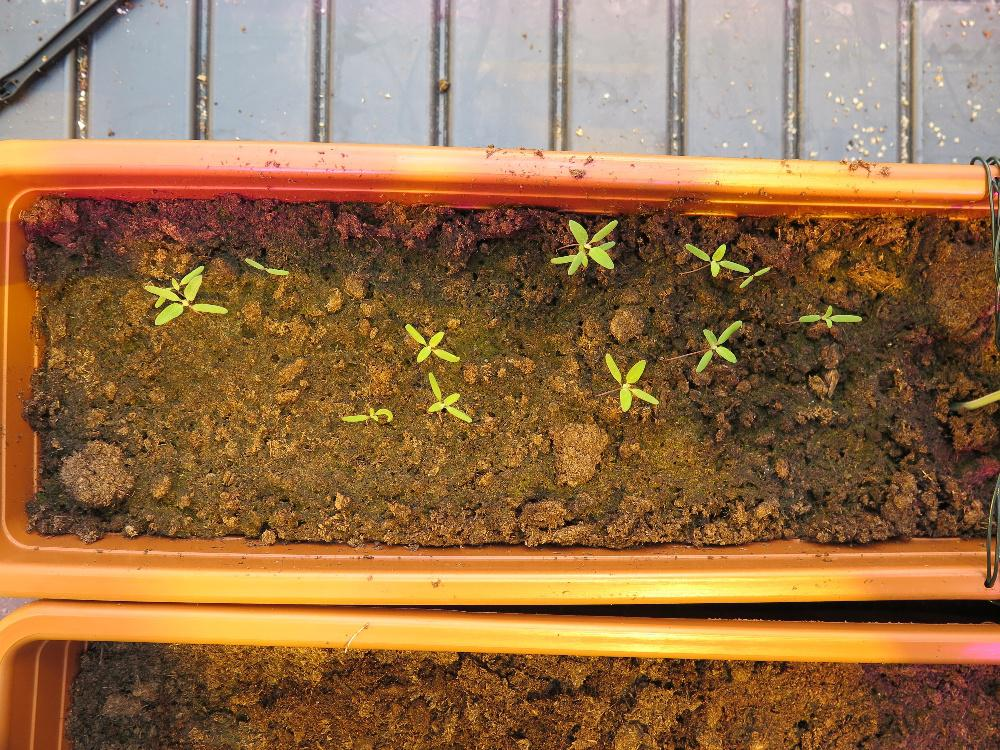weed: (603, 351, 659, 413), (693, 317, 742, 373), (403, 320, 460, 362), (425, 370, 471, 422), (797, 303, 861, 327), (339, 402, 392, 423), (242, 255, 289, 275)
